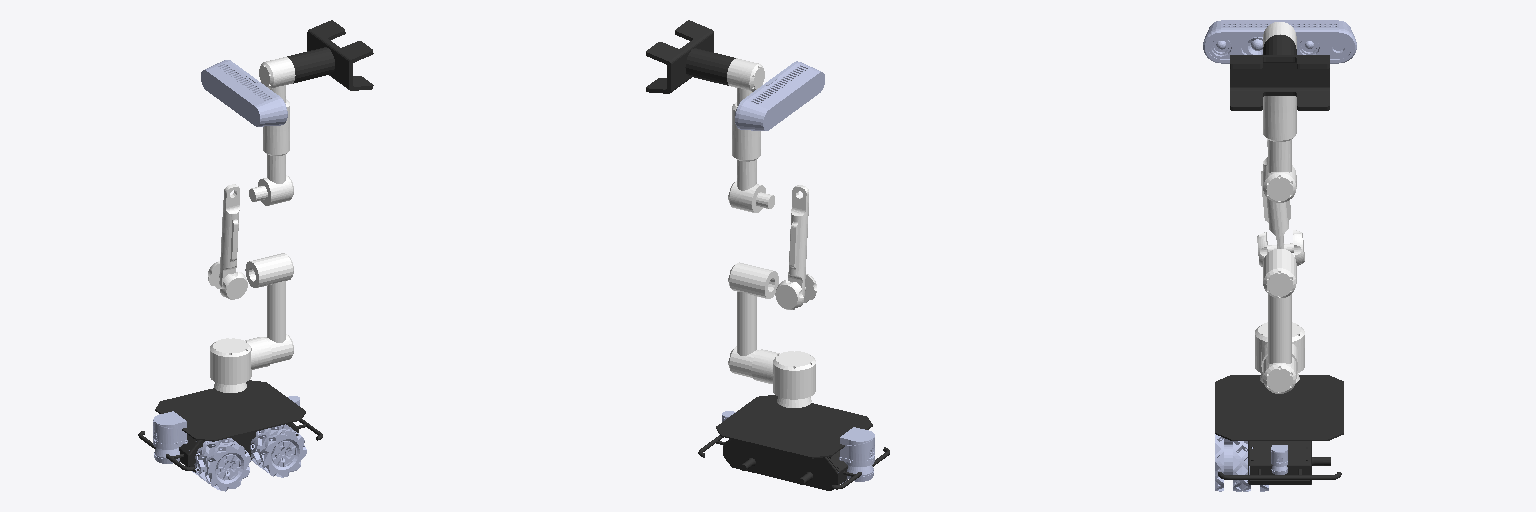
The robot description file, URDF, robot "aircraft_inspection_robot":
<?xml version="1.0" encoding="utf-8"?>
<!-- This URDF was automatically created by SolidWorks to URDF Exporter! Originally created by [author] ([email redacted]) 
     Commit Version: 1.6.0-4-g7f85cfe  Build Version: 1.6.7995.38578
     For more information, please see http://wiki.ros.org/sw_urdf_exporter -->
<robot
  name="aircraft_inspection_robot">
  <link
    name="base_link">
    <inertial>
      <origin
        xyz="-0.40974645535857 0.24834344494391 0.242010590101945"
        rpy="0 0 0" />
      <mass
        value="52.3239752391313" />
      <inertia
        ixx="0.952539519630922"
        ixy="-4.26200364814785E-05"
        ixz="5.36575380324012E-05"
        iyy="3.80199276879049"
        iyz="2.4370448304257E-05"
        izz="4.07464899613958" />
    </inertial>
    <visual>
      <origin
        xyz="0 0 0"
        rpy="0 0 0" />
      <geometry>
        <mesh
          filename="package://aircraft_inspection_robot/meshes/base_link.STL" />
      </geometry>
      <material
        name="">
        <color
          rgba="0.250980392156863 0.250980392156863 0.250980392156863 1" />
      </material>
    </visual>
    <collision>
      <origin
        xyz="0 0 0"
        rpy="0 0 0" />
      <geometry>
        <mesh
          filename="package://aircraft_inspection_robot/meshes/base_link.STL" />
      </geometry>
    </collision>
  </link>
  <link
    name="front_lidar_link">
    <inertial>
      <origin
        xyz="-0.00725496120108809 -0.159524101399661 -5.98196165102483E-08"
        rpy="0 0 0" />
      <mass
        value="2.62716823876827" />
      <inertia
        ixx="0.0112696941818608"
        ixy="-0.00033780129369249"
        ixz="1.4993857049244E-09"
        iyy="0.00584101301427301"
        iyz="-7.42930015937879E-09"
        izz="0.0112957202364551" />
    </inertial>
    <visual>
      <origin
        xyz="0 0 0"
        rpy="0 0 0" />
      <geometry>
        <mesh
          filename="package://aircraft_inspection_robot/meshes/front_lidar_link.STL" />
      </geometry>
      <material
        name="">
        <color
          rgba="0.792156862745098 0.819607843137255 0.933333333333333 1" />
      </material>
    </visual>
    <collision>
      <origin
        xyz="0 0 0"
        rpy="0 0 0" />
      <geometry>
        <mesh
          filename="package://aircraft_inspection_robot/meshes/front_lidar_link.STL" />
      </geometry>
    </collision>
  </link>
  <joint
    name="front_lidar_joint"
    type="fixed">
    <origin
      xyz="0.252189298222892 0.248326110601867 0.129347762825463"
      rpy="-1.57091123434865 0 0" />
    <parent
      link="base_link" />
    <child
      link="front_lidar_link" />
    <axis
      xyz="0 0 0" />
  </joint>
  <link
    name="rear_lidar_link">
    <inertial>
      <origin
        xyz="-0.00725495907227769 -0.159524101502578 -5.98195511736233E-08"
        rpy="0 0 0" />
      <mass
        value="2.62716823908889" />
      <inertia
        ixx="0.0112696941918823"
        ixy="-0.000337801221774006"
        ixz="1.49990162575632E-09"
        iyy="0.00584101300629532"
        iyz="-7.42946478333022E-09"
        izz="0.0112957202365325" />
    </inertial>
    <visual>
      <origin
        xyz="0 0 0"
        rpy="0 0 0" />
      <geometry>
        <mesh
          filename="package://aircraft_inspection_robot/meshes/rear_lidar_link.STL" />
      </geometry>
      <material
        name="">
        <color
          rgba="0.792156862745098 0.819607843137255 0.933333333333333 1" />
      </material>
    </visual>
    <collision>
      <origin
        xyz="0 0 0"
        rpy="0 0 0" />
      <geometry>
        <mesh
          filename="package://aircraft_inspection_robot/meshes/rear_lidar_link.STL" />
      </geometry>
    </collision>
  </link>
  <joint
    name="rear_lidar_joint"
    type="fixed">
    <origin
      xyz="-1.07167463581468 0.248325943235427 0.129347754093208"
      rpy="-1.57068141924114 0 3.14159265358979" />
    <parent
      link="base_link" />
    <child
      link="rear_lidar_link" />
    <axis
      xyz="0 0 0" />
  </joint>
  <link
    name="front_right_wheel_link">
    <inertial>
      <origin
        xyz="7.69611511519663E-07 -1.70468712881733E-07 0.102621158507274"
        rpy="0 0 0" />
      <mass
        value="26.0461976105726" />
      <inertia
        ixx="0.285954065616882"
        ixy="7.95282541629767E-07"
        ixz="1.27020782265502E-07"
        iyy="0.28595474175216"
        iyz="-3.78487432157488E-07"
        izz="0.40415282922357" />
    </inertial>
    <visual>
      <origin
        xyz="0 0 0"
        rpy="0 0 0" />
      <geometry>
        <mesh
          filename="package://aircraft_inspection_robot/meshes/front_right_wheel_link.STL" />
      </geometry>
      <material
        name="">
        <color
          rgba="0.792156862745098 0.819607843137255 0.933333333333333 1" />
      </material>
    </visual>
    <collision>
      <origin
        xyz="0 0 0"
        rpy="0 0 0" />
      <geometry>
        <mesh
          filename="package://aircraft_inspection_robot/meshes/front_right_wheel_link.STL" />
      </geometry>
    </collision>
  </link>
  <joint
    name="front_right_wheel_joint"
    type="continuous">
    <origin
      xyz="-0.117597527933808 -0.0373680425515616 0.10160911911045"
      rpy="-1.57068160265985 -0.0571716575997457 3.14159265358979" />
    <parent
      link="base_link" />
    <child
      link="front_right_wheel_link" />
    <axis
      xyz="0 0 0.999999999978938" />
  </joint>
  <link
    name="front_left_wheel_link">
    <inertial>
      <origin
        xyz="1.06668829737838E-07 -1.81805510673927E-07 -0.674003005040707"
        rpy="0 0 0" />
      <mass
        value="26.0463242126014" />
      <inertia
        ixx="0.285954618303477"
        ixy="7.68759858498613E-07"
        ixz="6.28786224972317E-07"
        iyy="0.285955290913927"
        iyz="3.7011482934088E-07"
        izz="0.404153186322765" />
    </inertial>
    <visual>
      <origin
        xyz="0 0 0"
        rpy="0 0 0" />
      <geometry>
        <mesh
          filename="package://aircraft_inspection_robot/meshes/front_left_wheel_link.STL" />
      </geometry>
      <material
        name="">
        <color
          rgba="0.792156862745098 0.819607843137255 0.933333333333333 1" />
      </material>
    </visual>
    <collision>
      <origin
        xyz="0 0 0"
        rpy="0 0 0" />
      <geometry>
        <mesh
          filename="package://aircraft_inspection_robot/meshes/front_left_wheel_link.STL" />
      </geometry>
    </collision>
  </link>
  <joint
    name="front_left_wheel_joint"
    type="continuous">
    <origin
      xyz="-0.117597527933808 -0.0373680425515616 0.10160911911045"
      rpy="1.57056878031369 -1.04143176730992 0.000196477434083904" />
    <parent
      link="base_link" />
    <child
      link="front_left_wheel_link" />
    <axis
      xyz="0 0 1" />
  </joint>
  <link
    name="back_right_wheel_link">
    <inertial>
      <origin
        xyz="8.41577684762562E-08 -1.68242609732694E-07 0.102641039115083"
        rpy="0 0 0" />
      <mass
        value="26.0462008072991" />
      <inertia
        ixx="0.285954040177974"
        ixy="7.90067012358279E-07"
        ixz="-6.50671063736261E-07"
        iyy="0.285954742544619"
        iyz="-3.69738156013685E-07"
        izz="0.40415280236699" />
    </inertial>
    <visual>
      <origin
        xyz="0 0 0"
        rpy="0 0 0" />
      <geometry>
        <mesh
          filename="package://aircraft_inspection_robot/meshes/back_right_wheel_link.STL" />
      </geometry>
      <material
        name="">
        <color
          rgba="0.792156862745098 0.819607843137255 0.933333333333333 1" />
      </material>
    </visual>
    <collision>
      <origin
        xyz="0 0 0"
        rpy="0 0 0" />
      <geometry>
        <mesh
          filename="package://aircraft_inspection_robot/meshes/back_right_wheel_link.STL" />
      </geometry>
    </collision>
  </link>
  <joint
    name="back_right_wheel_joint"
    type="continuous">
    <origin
      xyz="-0.701797527935311 -0.0373482051170577 0.101609112969085"
      rpy="1.57064724689163 -0.690734458596981 9.50549862212618E-05" />
    <parent
      link="base_link" />
    <child
      link="back_right_wheel_link" />
    <axis
      xyz="0 0 1" />
  </joint>
  <link
    name="back_left_wheel_link">
    <inertial>
      <origin
        xyz="1.29034836829356E-07 -2.66555836092586E-06 -0.673983123389094"
        rpy="0 0 0" />
      <mass
        value="26.0463122941313" />
      <inertia
        ixx="0.285954575528675"
        ixy="7.71478869336928E-07"
        ixz="6.45837128179966E-07"
        iyy="0.285955250948586"
        iyz="7.90647100387111E-07"
        izz="0.404153156835058" />
    </inertial>
    <visual>
      <origin
        xyz="0 0 0"
        rpy="0 0 0" />
      <geometry>
        <mesh
          filename="package://aircraft_inspection_robot/meshes/back_left_wheel_link.STL" />
      </geometry>
      <material
        name="">
        <color
          rgba="0.792156862745098 0.819607843137255 0.933333333333333 1" />
      </material>
    </visual>
    <collision>
      <origin
        xyz="0 0 0"
        rpy="0 0 0" />
      <geometry>
        <mesh
          filename="package://aircraft_inspection_robot/meshes/back_left_wheel_link.STL" />
      </geometry>
    </collision>
  </link>
  <joint
    name="back_left_wheel_joint"
    type="continuous">
    <origin
      xyz="-0.701797527935311 -0.0373482051170577 0.101609112969085"
      rpy="1.56727528936655 -1.5381898923507 0.00352290998991109" />
    <parent
      link="base_link" />
    <child
      link="back_left_wheel_link" />
    <axis
      xyz="0 0 0.999999999993264" />
  </joint>
  <link
    name="arm_base_link">
    <inertial>
      <origin
        xyz="-1.64295967997052E-07 0.231013183516839 0.049503043395059"
        rpy="0 0 0" />
      <mass
        value="49.4633477448353" />
      <inertia
        ixx="1.41939380135235"
        ixy="-8.90881223634171E-07"
        ixz="9.56220690256119E-07"
        iyy="1.27036787158441"
        iyz="-0.0880230019550541"
        izz="0.931256676518883" />
    </inertial>
    <visual>
      <origin
        xyz="0 0 0"
        rpy="0 0 0" />
      <geometry>
        <mesh
          filename="package://aircraft_inspection_robot/meshes/arm_base_link.STL" />
      </geometry>
      <material
        name="">
        <color
          rgba="1 1 1 1" />
      </material>
    </visual>
    <collision>
      <origin
        xyz="0 0 0"
        rpy="0 0 0" />
      <geometry>
        <mesh
          filename="package://aircraft_inspection_robot/meshes/arm_base_link.STL" />
      </geometry>
    </collision>
  </link>
  <joint
    name="arm_base_joint"
    type="continuous">
    <origin
      xyz="-0.409742672306299 0.248387046108564 0.660376290839812"
      rpy="1.57079632680359 0.000114907553872355 1.57079640245869" />
    <parent
      link="base_link" />
    <child
      link="arm_base_link" />
    <axis
      xyz="0 1 0" />
  </joint>
  <link
    name="arm_link_1">
    <inertial>
      <origin
        xyz="-0.0372792279944005 0.426695142555641 -0.479484473911662"
        rpy="0 0 0" />
      <mass
        value="45.531535202482" />
      <inertia
        ixx="5.83147761609791"
        ixy="0.464362340696364"
        ixz="0.0181479436428272"
        iyy="0.557025555450064"
        iyz="-0.207714622846255"
        izz="5.66378782226248" />
    </inertial>
    <visual>
      <origin
        xyz="0 0 0"
        rpy="0 0 0" />
      <geometry>
        <mesh
          filename="package://aircraft_inspection_robot/meshes/arm_link_1.STL" />
      </geometry>
      <material
        name="">
        <color
          rgba="1 1 1 1" />
      </material>
    </visual>
    <collision>
      <origin
        xyz="0 0 0"
        rpy="0 0 0" />
      <geometry>
        <mesh
          filename="package://aircraft_inspection_robot/meshes/arm_link_1.STL" />
      </geometry>
    </collision>
  </link>
  <joint
    name="arm_link_1_joint"
    type="continuous">
    <origin
      xyz="0 0.266699994442256 -0.0254000017630377"
      rpy="-3.14159264700432 0 -3.05444635463409" />
    <parent
      link="arm_base_link" />
    <child
      link="arm_link_1" />
    <axis
      xyz="0 0 -1" />
  </joint>
  <link
    name="arm_link_2">
    <inertial>
      <origin
        xyz="-0.0372794216662831 -0.426695125634995 0.155515526088335"
        rpy="0 0 0" />
      <mass
        value="45.5315352024768" />
      <inertia
        ixx="5.83147818820347"
        ixy="-0.464359091558048"
        ixz="0.0181471140196324"
        iyy="0.557024983344353"
        iyz="0.207714695328513"
        izz="5.66378782226227" />
    </inertial>
    <visual>
      <origin
        xyz="0 0 0"
        rpy="0 0 0" />
      <geometry>
        <mesh
          filename="package://aircraft_inspection_robot/meshes/arm_link_2.STL" />
      </geometry>
      <material
        name="">
        <color
          rgba="1 1 1 1" />
      </material>
    </visual>
    <collision>
      <origin
        xyz="0 0 0"
        rpy="0 0 0" />
      <geometry>
        <mesh
          filename="package://aircraft_inspection_robot/meshes/arm_link_2.STL" />
      </geometry>
    </collision>
  </link>
  <joint
    name="arm_link_2_joint"
    type="continuous">
    <origin
      xyz="-0.069638 0.79706 0"
      rpy="-3.1416 0 0" />
    <parent
      link="arm_link_1" />
    <child
      link="arm_link_2" />
    <axis
      xyz="0 0 -1" />
  </joint>
  <link
    name="arm_link_3">
    <inertial>
      <origin
        xyz="-0.0196317798013794 -0.224705189100464 0.497191005211974"
        rpy="0 0 0" />
      <mass
        value="31.7053240308613" />
      <inertia
        ixx="1.87953235728557"
        ixy="-0.138313038122859"
        ixz="0.00672807661397747"
        iyy="0.308500360870789"
        iyz="0.0770053740505552"
        izz="1.82187288938407" />
    </inertial>
    <visual>
      <origin
        xyz="0 0 0"
        rpy="0 0 0" />
      <geometry>
        <mesh
          filename="package://aircraft_inspection_robot/meshes/arm_link_3.STL" />
      </geometry>
      <material
        name="">
        <color
          rgba="1 1 1 1" />
      </material>
    </visual>
    <collision>
      <origin
        xyz="0 0 0"
        rpy="0 0 0" />
      <geometry>
        <mesh
          filename="package://aircraft_inspection_robot/meshes/arm_link_3.STL" />
      </geometry>
    </collision>
  </link>
  <joint
    name="arm_link_3_joint"
    type="continuous">
    <origin
      xyz="-0.069638 -0.79706 0"
      rpy="0 0 0" />
    <parent
      link="arm_link_2" />
    <child
      link="arm_link_3" />
    <axis
      xyz="0 0 1" />
  </joint>
  <link
    name="arm_link_4">
    <inertial>
      <origin
        xyz="-0.00225991388917834 -9.44354448390028E-07 -0.686443635379313"
        rpy="0 0 0" />
      <mass
        value="29.1827459543752" />
      <inertia
        ixx="1.43479094583571"
        ixy="-6.99548069272076E-09"
        ixz="-0.0156260344498578"
        iyy="1.44213765403444"
        iyz="-7.5715520551036E-08"
        izz="0.224051315592854" />
    </inertial>
    <visual>
      <origin
        xyz="0 0 0"
        rpy="0 0 0" />
      <geometry>
        <mesh
          filename="package://aircraft_inspection_robot/meshes/arm_link_4.STL" />
      </geometry>
      <material
        name="">
        <color
          rgba="1 1 1 1" />
      </material>
    </visual>
    <collision>
      <origin
        xyz="0 0 0"
        rpy="0 0 0" />
      <geometry>
        <mesh
          filename="package://aircraft_inspection_robot/meshes/arm_link_4.STL" />
      </geometry>
    </collision>
  </link>
  <joint
    name="arm_link_4_joint"
    type="continuous">
    <origin
      xyz="-0.021323 -0.24407 0.508"
      rpy="-3.0713 -1.5708 1.4134" />
    <parent
      link="arm_link_3" />
    <child
      link="arm_link_4" />
    <axis
      xyz="0 0 -1" />
  </joint>
  <link
    name="arm_link_5">
    <inertial>
      <origin
        xyz="6.43929354282591E-15 -4.44089209850063E-16 0.583424416047374"
        rpy="0 0 0" />
      <mass
        value="41.227054564651" />
      <inertia
        ixx="1.92995623100548"
        ixy="0.0650573018555175"
        ixz="-2.96700504282669E-14"
        iyy="2.66891181079381"
        iyz="4.23062739418566E-16"
        izz="1.53738026195758" />
    </inertial>
    <visual>
      <origin
        xyz="0 0 0"
        rpy="0 0 0" />
      <geometry>
        <mesh
          filename="package://aircraft_inspection_robot/meshes/arm_link_5.STL" />
      </geometry>
      <material
        name="">
        <color
          rgba="0.250980392156863 0.250980392156863 0.250980392156863 1" />
      </material>
    </visual>
    <collision>
      <origin
        xyz="0 0 0"
        rpy="0 0 0" />
      <geometry>
        <mesh
          filename="package://aircraft_inspection_robot/meshes/arm_link_5.STL" />
      </geometry>
    </collision>
  </link>
  <joint
    name="arm_link_5_joint"
    type="continuous">
    <origin
      xyz="-0.127 0 -0.9234"
      rpy="1.5708 -0.087146 1.5708" />
    <parent
      link="arm_link_4" />
    <child
      link="arm_link_5" />
    <axis
      xyz="0 0 1" />
  </joint>
  <link
    name="camera_link">
    <inertial>
      <origin
        xyz="1.2060623173473 0.138272316836035 -0.00419630171526747"
        rpy="0 0 0" />
      <mass
        value="67.6402187018761" />
      <inertia
        ixx="7.05925773573284"
        ixy="0.00160005295963165"
        ixz="0.0222511113797514"
        iyy="7.10657034997836"
        iyz="0.000413253450750154"
        izz="0.724964091144847" />
    </inertial>
    <visual>
      <origin
        xyz="0 0 0"
        rpy="0 0 0" />
      <geometry>
        <mesh
          filename="package://aircraft_inspection_robot/meshes/camera_link.STL" />
      </geometry>
      <material
        name="">
        <color
          rgba="0.792156862745098 0.819607843137255 0.933333333333333 1" />
      </material>
    </visual>
    <collision>
      <origin
        xyz="0 0 0"
        rpy="0 0 0" />
      <geometry>
        <mesh
          filename="package://aircraft_inspection_robot/meshes/camera_link.STL" />
      </geometry>
    </collision>
  </link>
  <joint
    name="camera_link_joint"
    type="fixed">
    <origin
      xyz="0.0121589249497853 0.139169858407754 -0.3556"
      rpy="3.05444641868214 -1.57079625379441 0" />
    <parent
      link="arm_link_5" />
    <child
      link="camera_link" />
    <axis
      xyz="0 0.999999993398127 0.00011490755350285" />
  </joint>
</robot>

--- Render facts (derived) ---
Views: 3 orthographic renders of the robot side by side, from view 1: azimuth 30°, elevation 25°; view 2: azimuth 150°, elevation 25°; view 3: azimuth 270°, elevation 25°.
Robot: aircraft_inspection_robot — 14 links, 13 joints (10 continuous, 3 fixed); root link base_link; default pose: all joints at 0.
Visible links, largest first — view 1: base_link, camera_link, arm_link_5, arm_link_1, arm_base_link, arm_link_2, back_right_wheel_link, front_right_wheel_link, arm_link_3, rear_lidar_link, arm_link_4; view 2: base_link, camera_link, arm_link_5, arm_link_1, arm_base_link, arm_link_2, arm_link_3, rear_lidar_link, arm_link_4; view 3: base_link, arm_link_5, camera_link, arm_link_1, arm_link_3, arm_link_2, front_right_wheel_link, arm_base_link, arm_link_4.
Boxes of the visible links, box(x1,y1,x2,y2) form: base_link: box(138, 380, 322, 472); camera_link: box(201, 60, 287, 126); arm_link_5: box(287, 20, 373, 90); arm_link_1: box(245, 253, 293, 363); arm_base_link: box(210, 337, 271, 392); arm_link_2: box(208, 184, 247, 299); back_right_wheel_link: box(197, 438, 250, 491); front_right_wheel_link: box(252, 424, 306, 477); arm_link_3: box(249, 128, 293, 205); rear_lidar_link: box(153, 411, 187, 463); arm_link_4: box(259, 57, 295, 131); base_link: box(698, 395, 889, 490); camera_link: box(735, 61, 824, 130); arm_link_5: box(646, 20, 735, 93); arm_link_1: box(728, 262, 778, 377); arm_base_link: box(751, 349, 815, 407); arm_link_2: box(775, 185, 816, 309); arm_link_3: box(728, 132, 774, 212); rear_lidar_link: box(839, 427, 874, 481); arm_link_4: box(727, 58, 764, 136); base_link: box(1215, 375, 1343, 484); arm_link_5: box(1230, 35, 1329, 110); camera_link: box(1203, 20, 1356, 63); arm_link_1: box(1263, 249, 1296, 393); arm_link_3: box(1263, 107, 1296, 202); arm_link_2: box(1257, 139, 1304, 266); front_right_wheel_link: box(1215, 434, 1241, 491); arm_base_link: box(1255, 322, 1304, 382); arm_link_4: box(1263, 22, 1296, 112).
Bounding box of the posed robot: 2.09 × 1.17 × 4.02 m (x, y, z).
14 mesh visuals loaded from 14 distinct referenced files (14 binary STL).